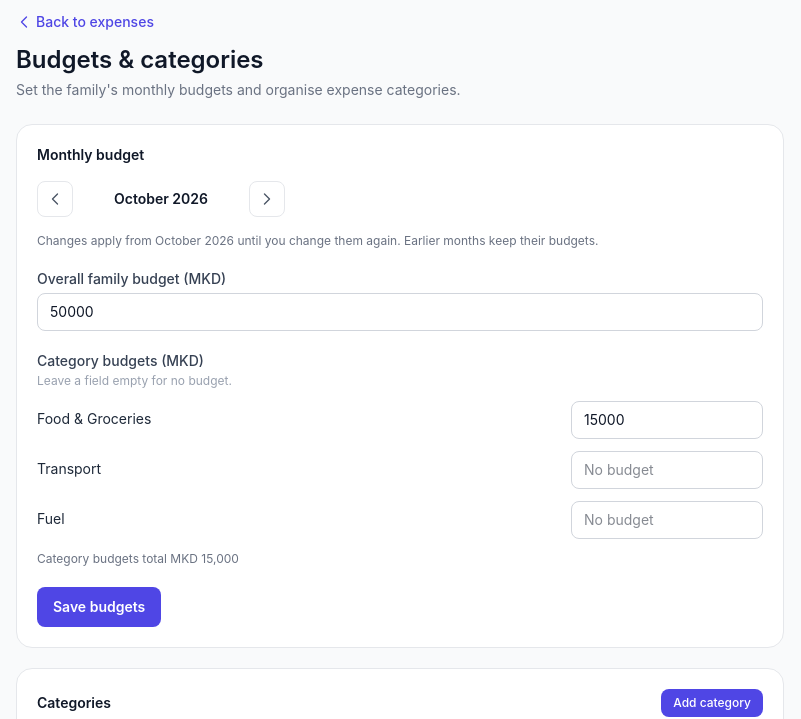
it: Expense settings: budgets › ignores a save that finishes after switching months, so it can't overwrite the new month
The width and height of the screenshot is (801, 719).
Replace the text in the field labelled "Overall family budget (MKD)" with "1" at (400, 312), box [37,293,763,331]
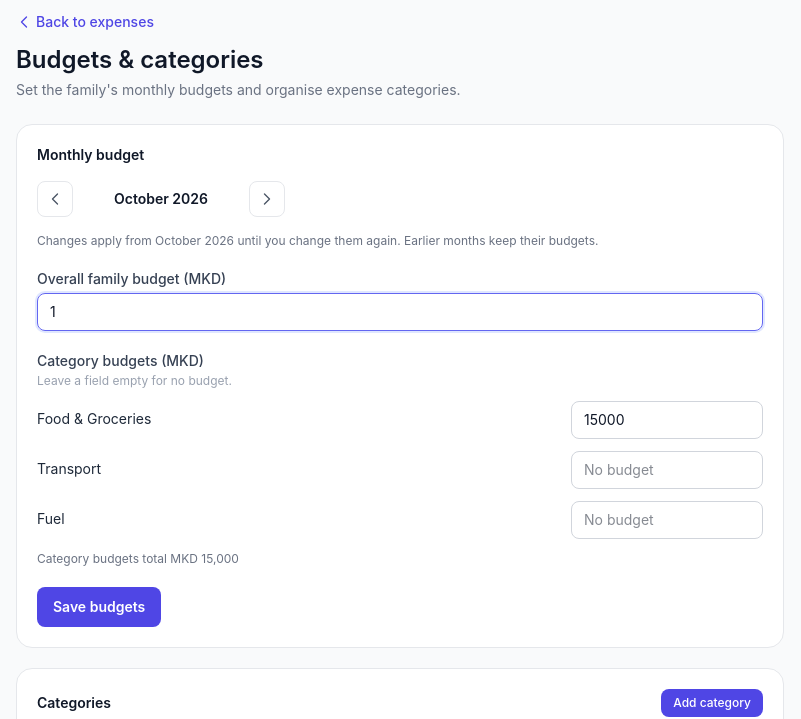
Click the button "Save budgets" at (99, 607), box [37,587,161,627]
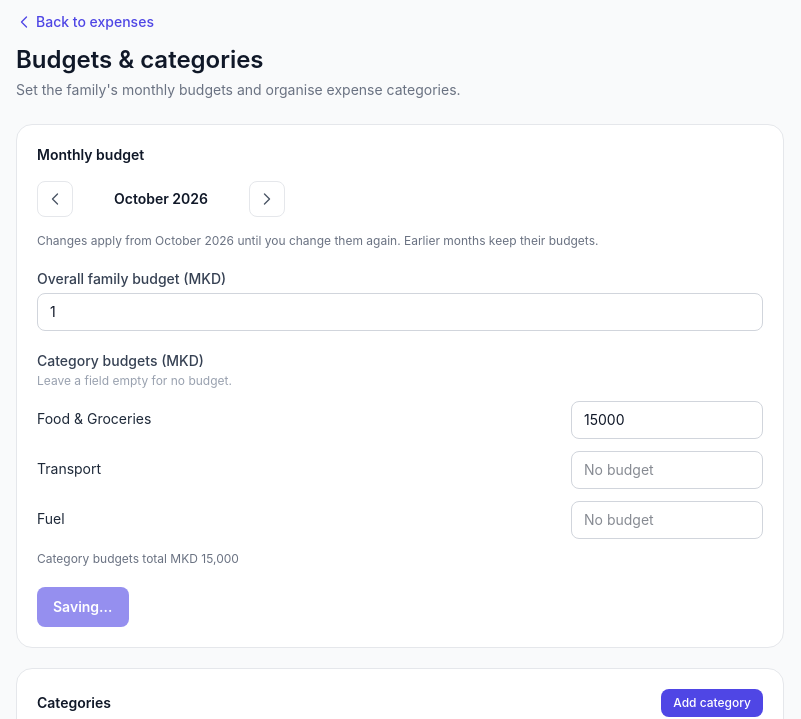
Click the button named "Next month" at (267, 199), box [249,181,285,217]
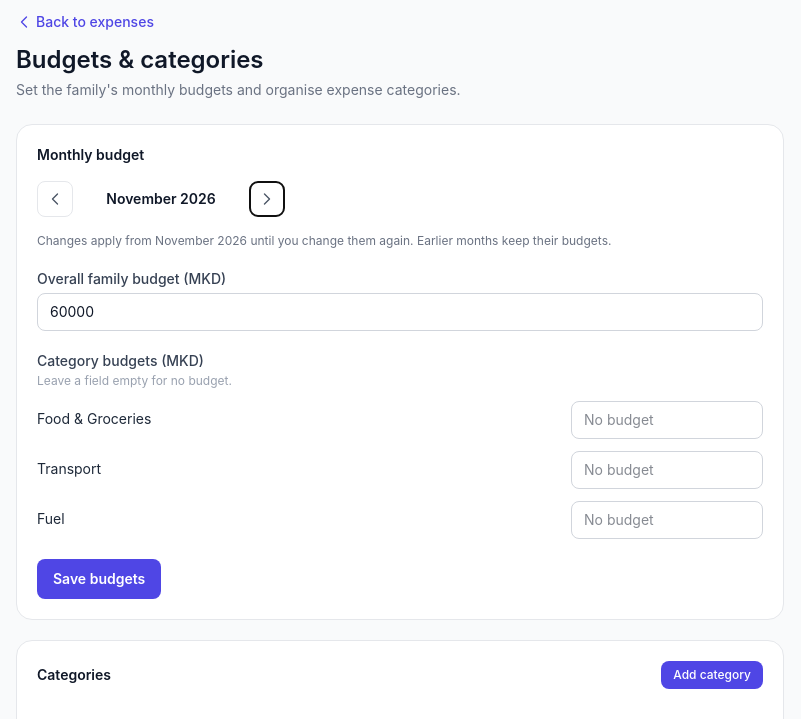
Now the button "Save budgets" is enabled, box [37,559,161,599]
Now the field labelled "Overall family budget (MKD)" holds "60000", box [37,293,763,331]
Now the field labelled "Food & Groceries" is empty, box [571,401,763,439]
